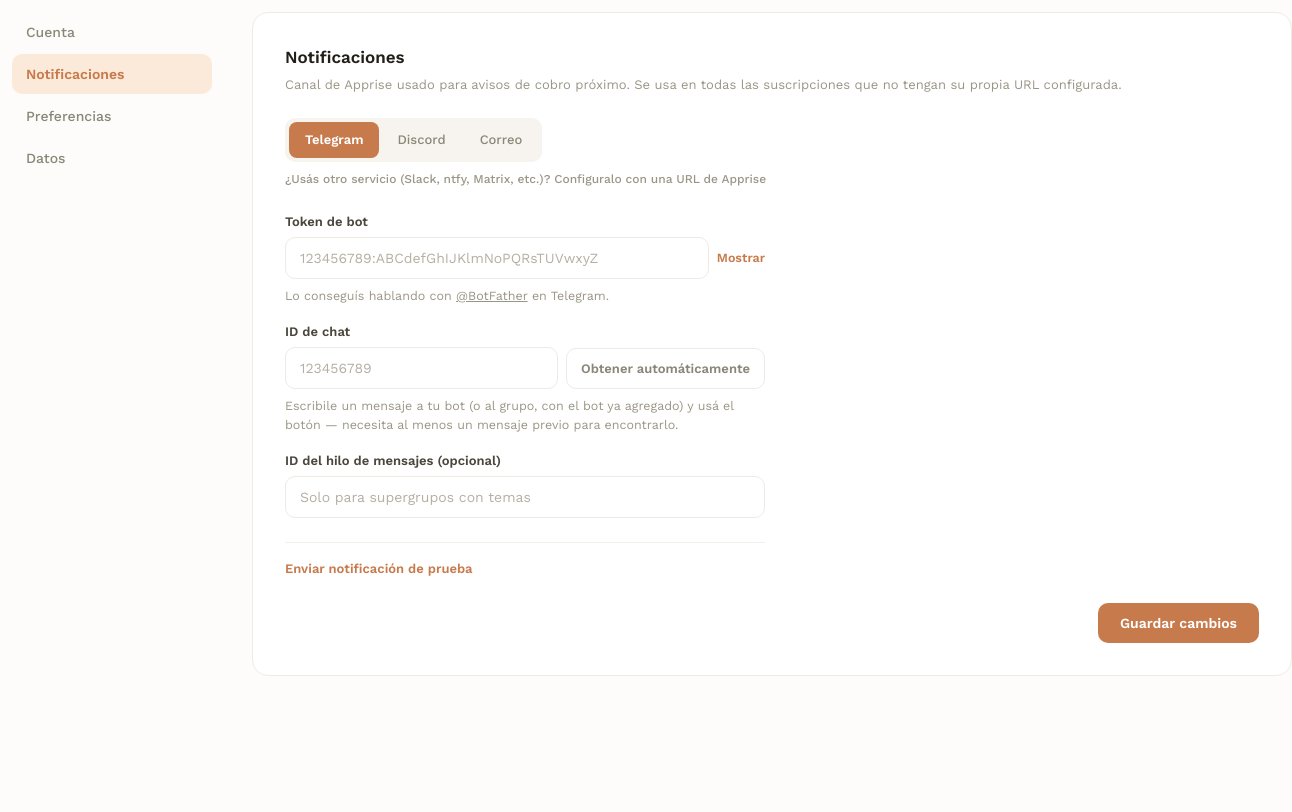
it: notification channel selection › switches to discord fields
Click the button "Discord" at (422, 140), box x1=381 y1=122 x2=462 y2=158
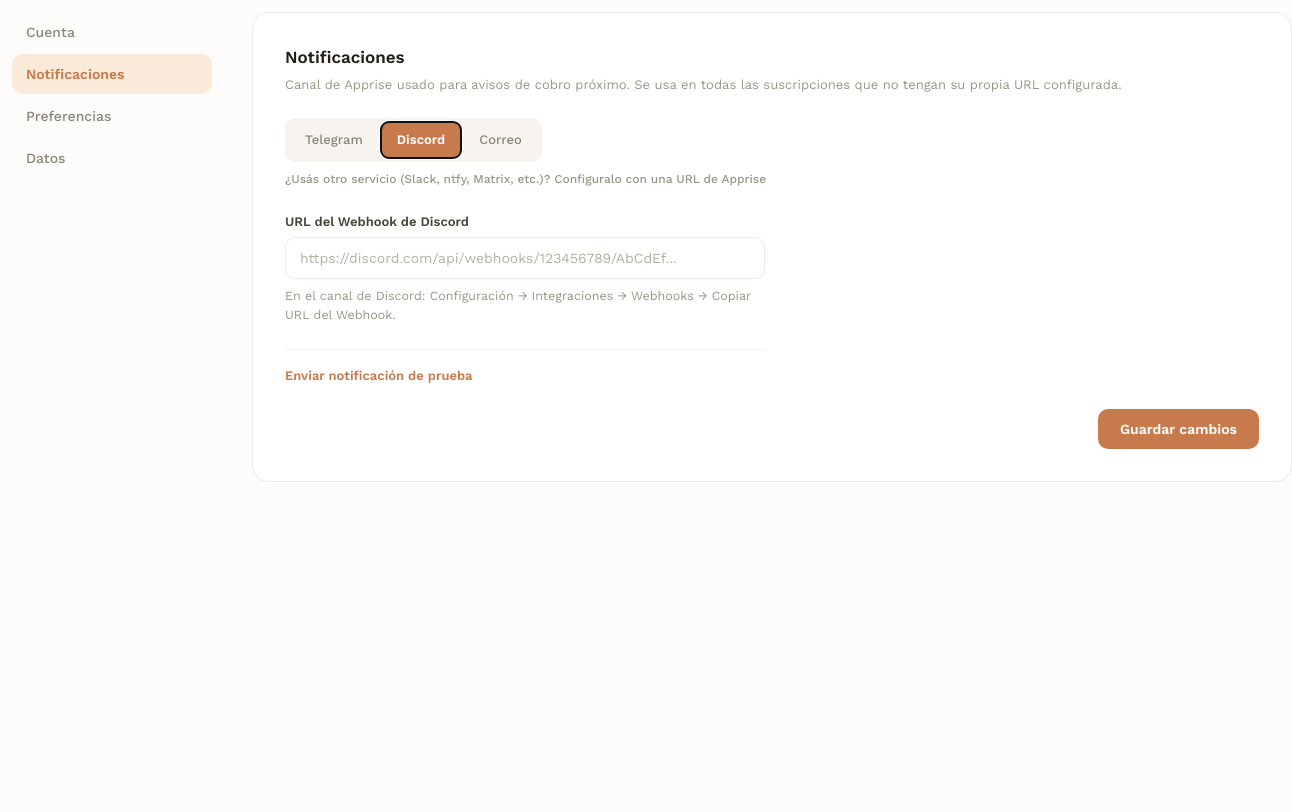
Now the text "URL del Webhook de Discord" is shown, box x1=285 y1=214 x2=469 y2=228
